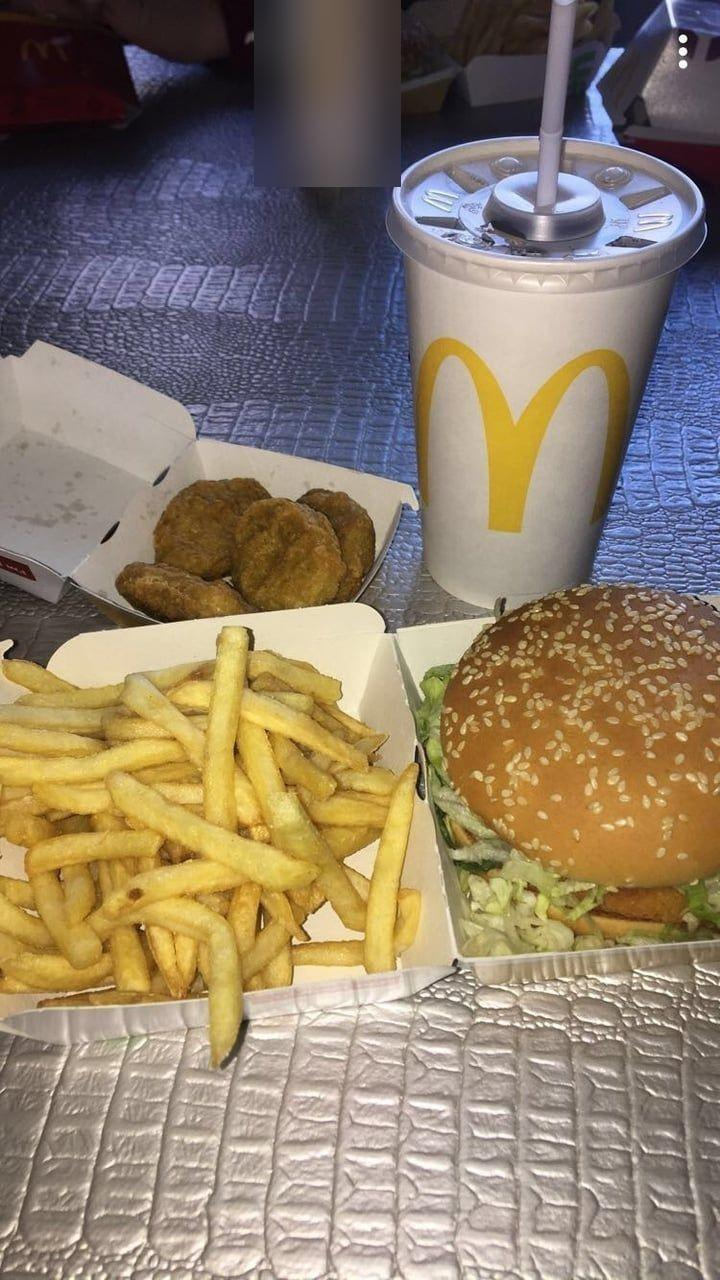cup-disposable: (382, 132, 708, 612)
